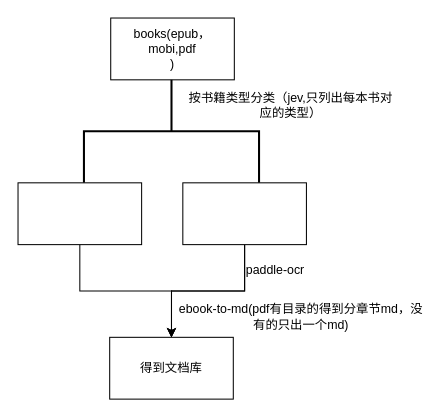
The diagram is 448 pixels wide and 417 high, and some of its shapes have lost their labels. Here are the shapes that lost their labels. From the top down, the box of each, then its label:
(17, 182, 142, 245): mobi,epub
(182, 182, 306, 245): pdf
